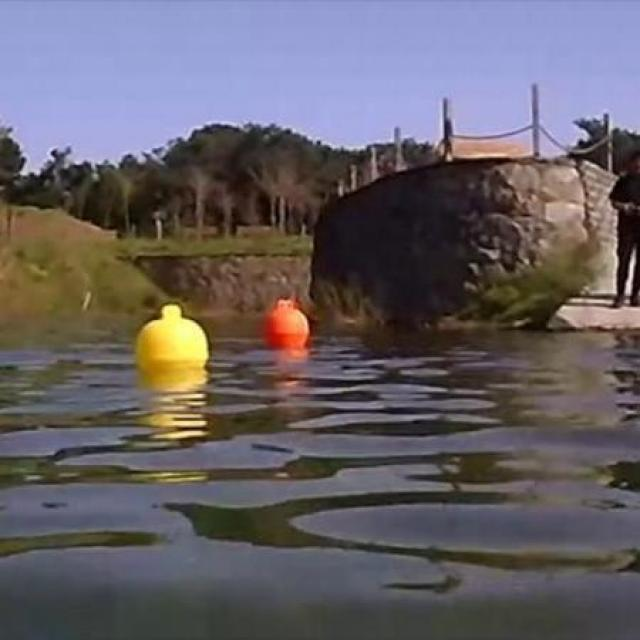buoy: (137, 305, 209, 381), (263, 298, 309, 348)
